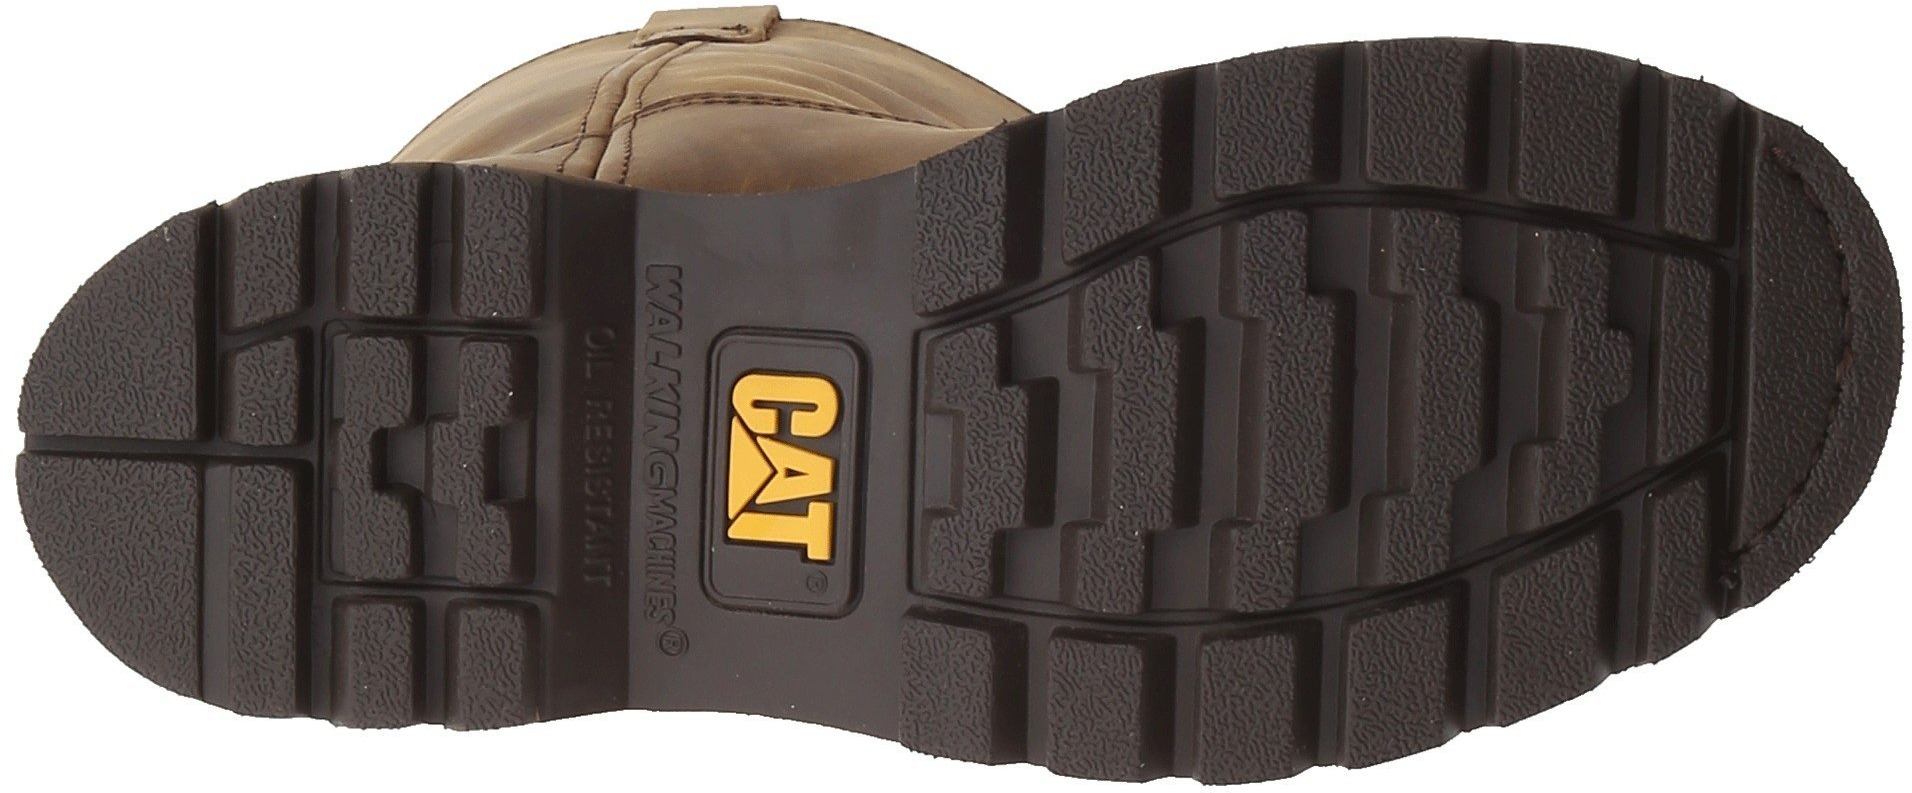exclude: (544, 120, 928, 770), (534, 178, 650, 720)
other: (63, 457, 196, 597), (63, 306, 195, 439), (754, 195, 866, 303), (1518, 52, 1625, 159), (1363, 45, 1472, 146), (1497, 573, 1597, 680), (754, 619, 861, 715), (1349, 651, 1443, 737)
quad: (1193, 231, 1525, 559), (641, 311, 917, 625), (246, 179, 540, 467), (930, 326, 1191, 593), (276, 460, 538, 722), (1038, 614, 1314, 784), (1524, 261, 1713, 455), (1054, 78, 1195, 255)
text: (719, 478, 835, 592), (724, 377, 840, 481)
